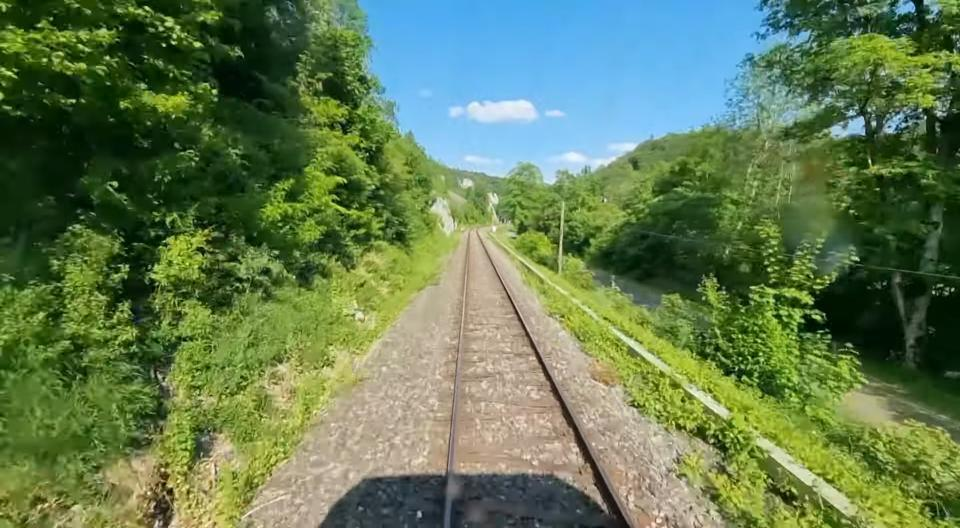Plant: (519, 264, 886, 528)
